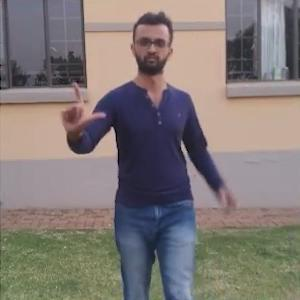land_hand: (54, 76, 107, 134)
